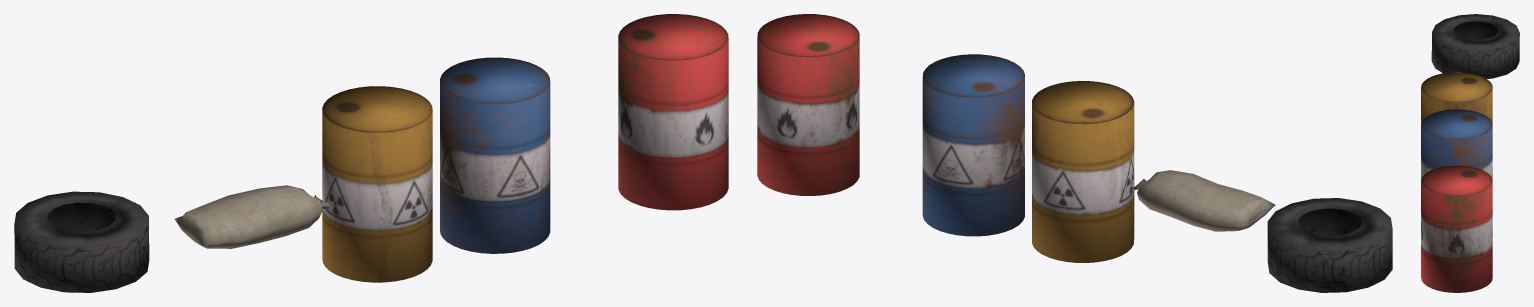
The model's file is Drums.fbx.
3 renders of one model, left to right at view 1: azimuth 30°, elevation 25°; view 2: azimuth 150°, elevation 25°; view 3: azimuth 270°, elevation 25°, orthographic. The views are drawn at different scales.
Visible parts, largest first — view 1: Cylinder.002, Cylinder, Cylinder.001, opon_Material.002_0, Cube.011_sandd_0; view 2: Cylinder, Cylinder.002, Cylinder.001, opon_Material.002_0, Cube.011_sandd_0; view 3: Cylinder.002, opon_Material.002_0, Cylinder, Cylinder.001.
Boxes of the visible parts, <box> form: Cylinder.002: <box>618,14,728,210</box>; Cylinder: <box>440,57,550,253</box>; Cylinder.001: <box>322,86,432,282</box>; opon_Material.002_0: <box>14,191,149,292</box>; Cube.011_sandd_0: <box>174,185,331,248</box>; Cylinder: <box>922,54,1024,236</box>; Cylinder.002: <box>757,14,859,195</box>; Cylinder.001: <box>1032,81,1134,262</box>; opon_Material.002_0: <box>1267,198,1392,292</box>; Cube.011_sandd_0: <box>1132,170,1275,231</box>; Cylinder.002: <box>1421,165,1492,292</box>; opon_Material.002_0: <box>1431,14,1519,78</box>; Cylinder: <box>1421,109,1492,180</box>; Cylinder.001: <box>1421,72,1492,123</box>.
Size of the model in its own units: 442 by 92.48 by 85.28.
